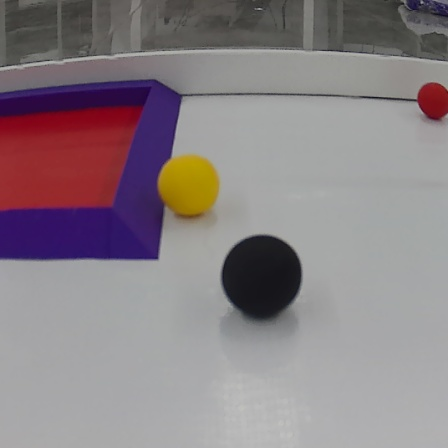black: (213, 230, 305, 322)
red: (411, 83, 448, 119)
red_aim: (3, 76, 185, 265)
yellow: (157, 153, 223, 219)
